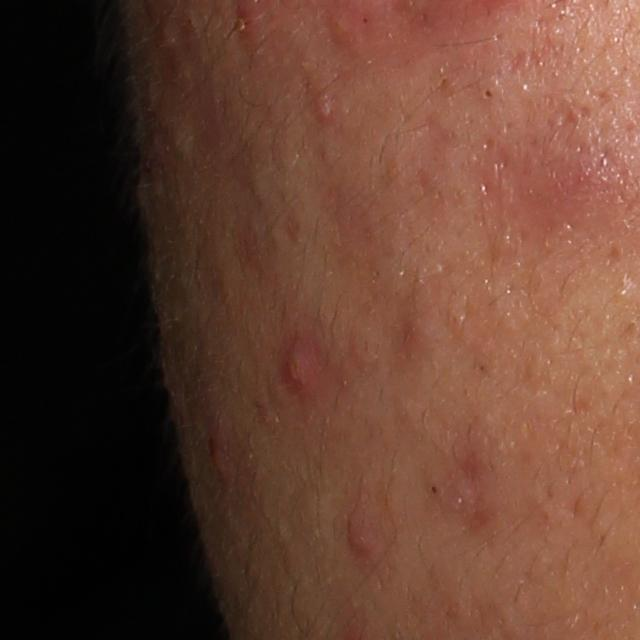comedo: (424, 478, 449, 498)
papule: (197, 421, 243, 481), (343, 507, 379, 564), (283, 346, 319, 396)
